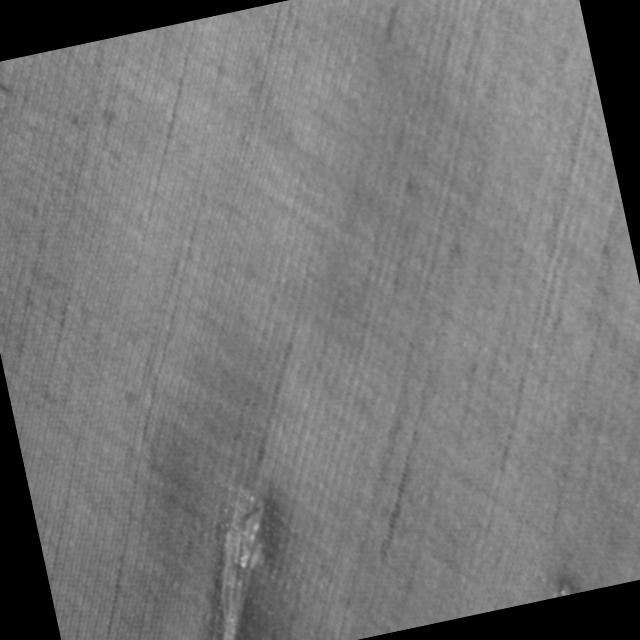hole: (176, 485, 304, 640), (554, 569, 582, 595)
